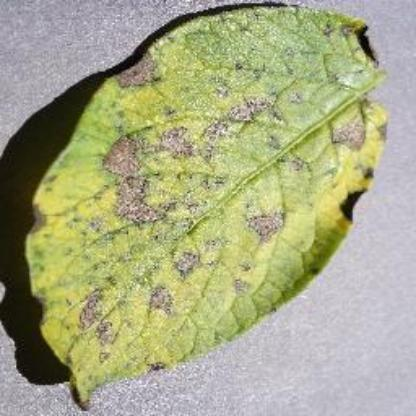Early-Blight: (24, 1, 388, 406)
